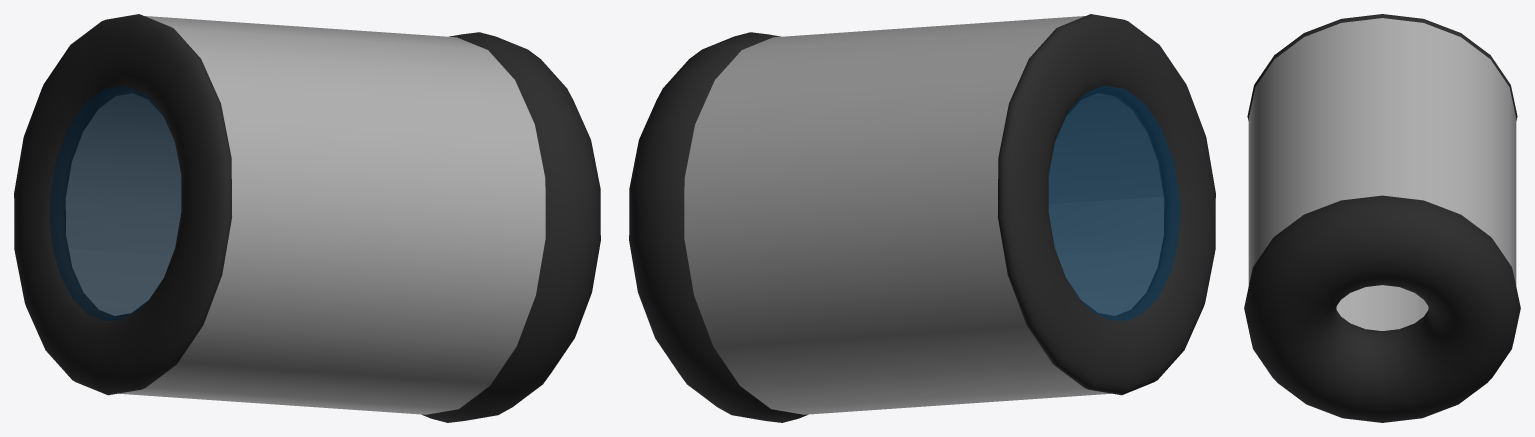
The model's file is pieceOne.fbx.
3 renders of one model, left to right at view 1: azimuth 30°, elevation 25°; view 2: azimuth 150°, elevation 25°; view 3: azimuth 270°, elevation 25°, orthographic. The views are drawn at different scales.
Parts seen in each view (by area): view 1: pCylinder22, pTorus5, pDisc1, pTorus1; view 2: pCylinder22, pTorus5, pDisc1, pTorus1; view 3: pCylinder22, pTorus1, pTorus5.
Boxes of the visible parts, bbox=[...] form: pCylinder22: bbox=[66, 16, 545, 414]; pTorus5: bbox=[14, 14, 232, 395]; pDisc1: bbox=[50, 85, 181, 320]; pTorus1: bbox=[422, 32, 600, 422]; pCylinder22: bbox=[684, 16, 1163, 414]; pTorus5: bbox=[997, 14, 1215, 395]; pDisc1: bbox=[1048, 85, 1179, 320]; pTorus1: bbox=[629, 32, 807, 422]; pCylinder22: bbox=[1248, 18, 1516, 330]; pTorus1: bbox=[1244, 195, 1520, 422]; pTorus5: bbox=[1247, 14, 1517, 120].
Bounding box in the file's own units: 4.63 × 4.07 × 3.26.
